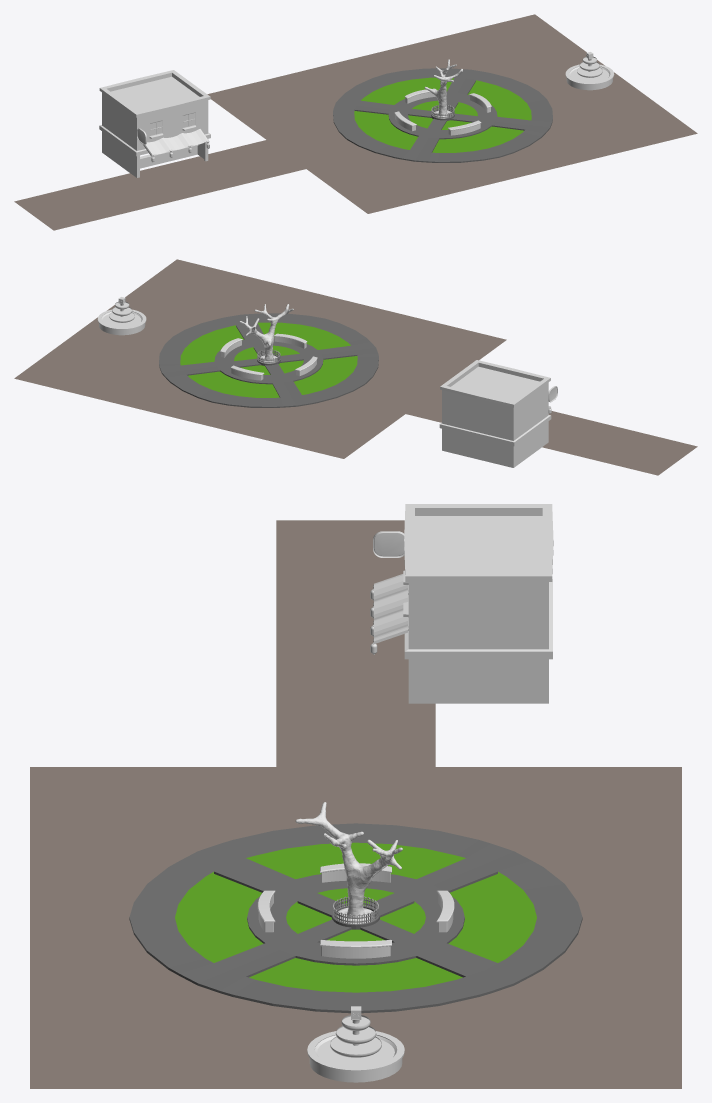
The model's file is NeoLondonPark.fbx.
The picture shows the model from 3 angles, top to bottom: view 1: azimuth 30°, elevation 25°; view 2: azimuth 150°, elevation 25°; view 3: azimuth 270°, elevation 25°; orthographic projection. The views are drawn at different scales.
Parts seen in each view (by area): view 1: Plane.001, Circle, Cube.002, Circle.003, Neo London Park Benches, Plane.002, Plane, Cylinder, Circle.004; view 2: Plane.001, Circle, Cube.002, Circle.003, Neo London Park Benches, Plane, Cylinder, Circle.004; view 3: Plane.001, Circle, Cube.002, Circle.003, Neo London Park Benches, Plane, Cylinder, Circle.004, Plane.002.
Boxes of the visible parts, x1=… form: Plane.001: x1=14, y1=14, x2=697, y2=230; Circle: x1=333, y1=68, x2=552, y2=162; Cube.002: x1=99, y1=70, x2=210, y2=177; Circle.003: x1=354, y1=77, x2=531, y2=152; Neo London Park Benches: x1=394, y1=88, x2=491, y2=135; Plane.002: x1=143, y1=129, x2=209, y2=156; Plane: x1=424, y1=59, x2=462, y2=115; Cylinder: x1=565, y1=59, x2=614, y2=90; Circle.004: x1=570, y1=57, x2=609, y2=82; Plane.001: x1=14, y1=259, x2=697, y2=475; Circle: x1=159, y1=313, x2=378, y2=407; Cube.002: x1=439, y1=360, x2=551, y2=467; Circle.003: x1=180, y1=322, x2=357, y2=397; Neo London Park Benches: x1=220, y1=333, x2=317, y2=380; Plane: x1=239, y1=304, x2=293, y2=361; Cylinder: x1=97, y1=304, x2=146, y2=335; Circle.004: x1=102, y1=302, x2=141, y2=327; Plane.001: x1=30, y1=520, x2=681, y2=1088; Circle: x1=129, y1=823, x2=582, y2=1013; Cube.002: x1=403, y1=504, x2=553, y2=703; Circle.003: x1=175, y1=842, x2=536, y2=992; Neo London Park Benches: x1=257, y1=863, x2=454, y2=958; Plane: x1=295, y1=802, x2=402, y2=919; Cylinder: x1=307, y1=1020, x2=404, y2=1082; Circle.004: x1=317, y1=1016, x2=394, y2=1067; Plane.002: x1=374, y1=574, x2=407, y2=643.
Size of the model in its own units: 9448 by 1007 by 4579.
